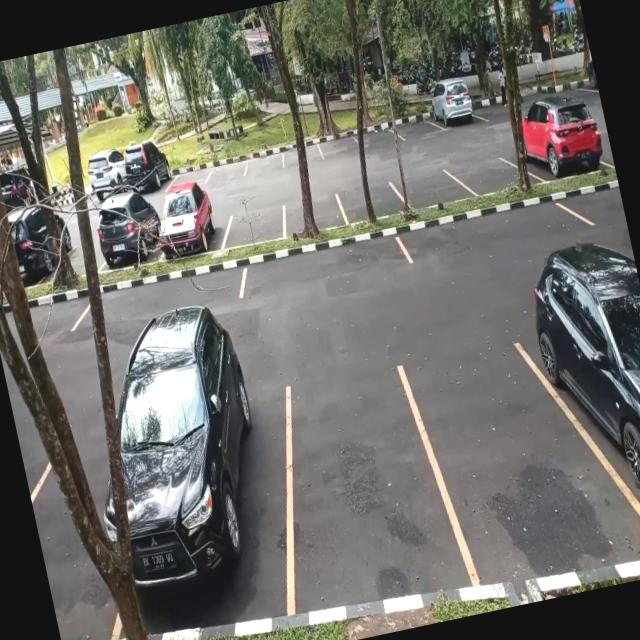car: (85, 307, 315, 638), (519, 247, 640, 572), (517, 106, 604, 188), (94, 196, 166, 274), (152, 190, 227, 264), (430, 84, 480, 133)
free: (406, 327, 614, 592), (258, 358, 460, 613), (400, 192, 585, 268), (238, 230, 411, 302), (222, 201, 290, 249), (396, 165, 464, 212), (338, 180, 404, 227), (279, 192, 346, 238), (460, 152, 524, 198), (567, 182, 626, 231), (394, 107, 439, 143), (356, 118, 401, 154), (240, 144, 286, 178), (316, 126, 362, 160), (280, 136, 324, 170), (204, 152, 248, 183), (170, 159, 212, 189)
